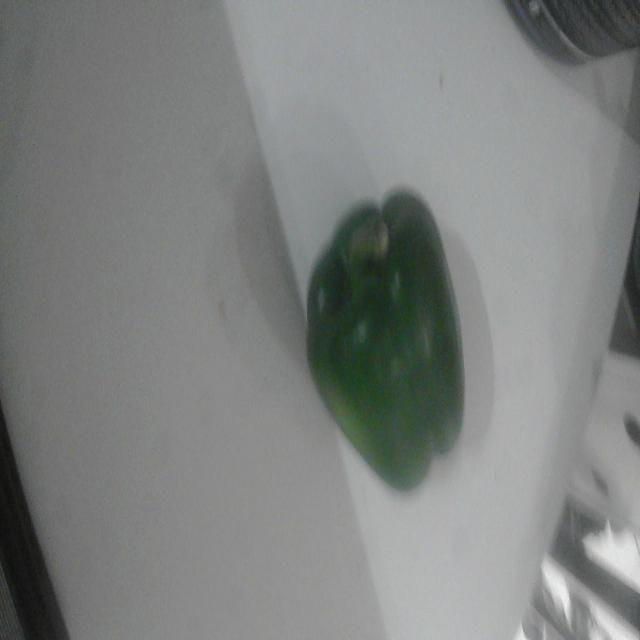Bell Pepper: (307, 192, 464, 491)
